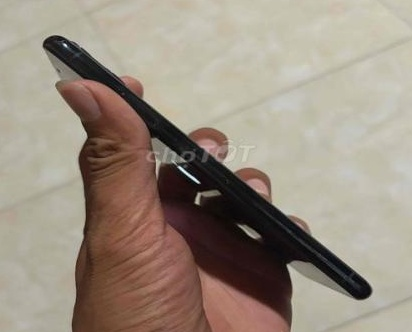scratch: (27, 32, 68, 58)
